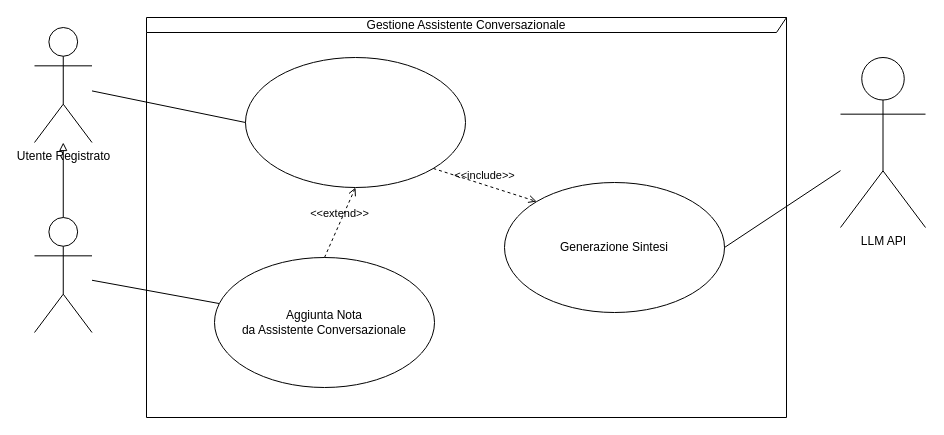
Some shapes in this 944 by 435 pixel diagram are drawn without their labels. The box of each missing label's shape, as (x1, y1, x2, y2) in pixels:
Esperto: (34, 216, 92, 332)
Interrogazione Assistente Conversazionale: (244, 56, 466, 188)
